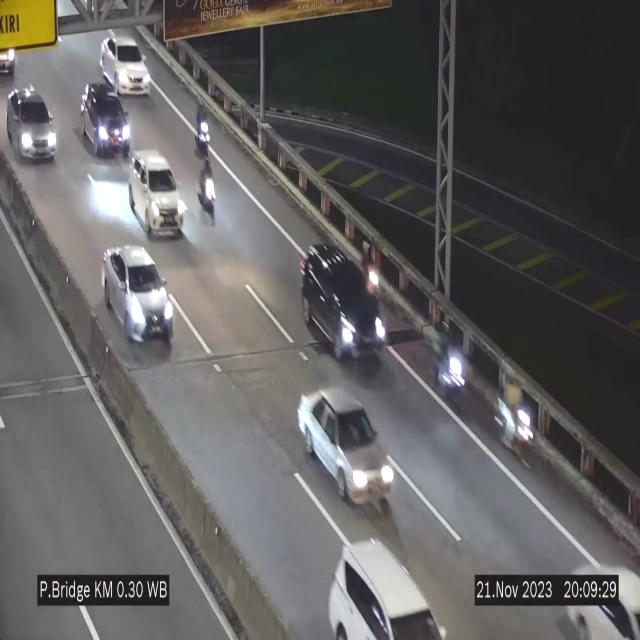Car: (298, 390, 395, 502), (304, 249, 386, 364), (102, 246, 174, 345), (76, 76, 136, 158), (129, 150, 183, 239), (1, 89, 58, 169), (100, 32, 150, 98)
Motorcycle: (493, 366, 534, 464), (442, 331, 468, 407), (359, 238, 380, 302), (194, 160, 216, 219), (196, 103, 210, 161)
